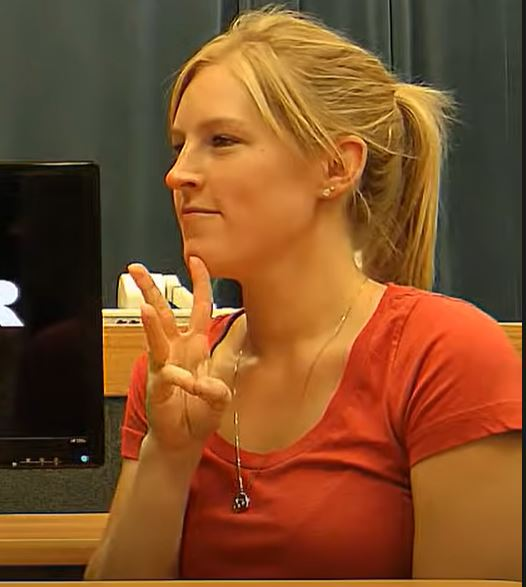Water: (74, 234, 302, 455)
